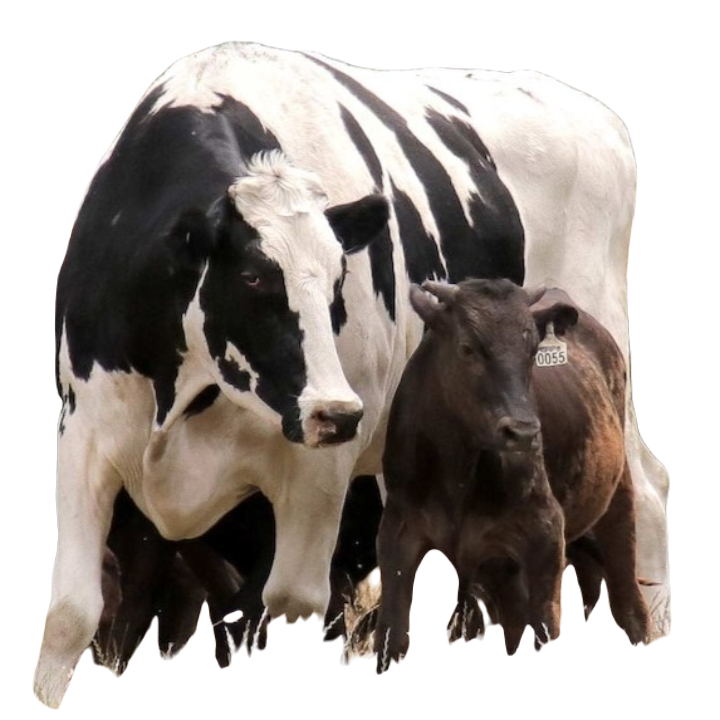Cow: (18, 39, 651, 706)
